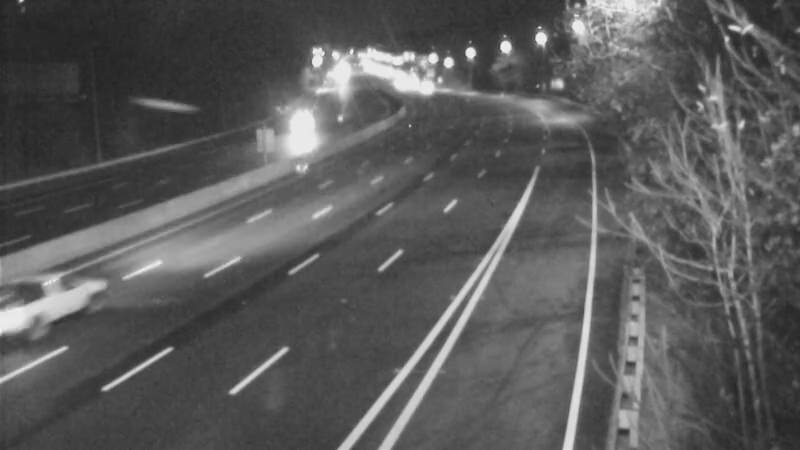vehicle: (1, 257, 81, 337), (396, 66, 446, 116), (267, 107, 317, 157)
